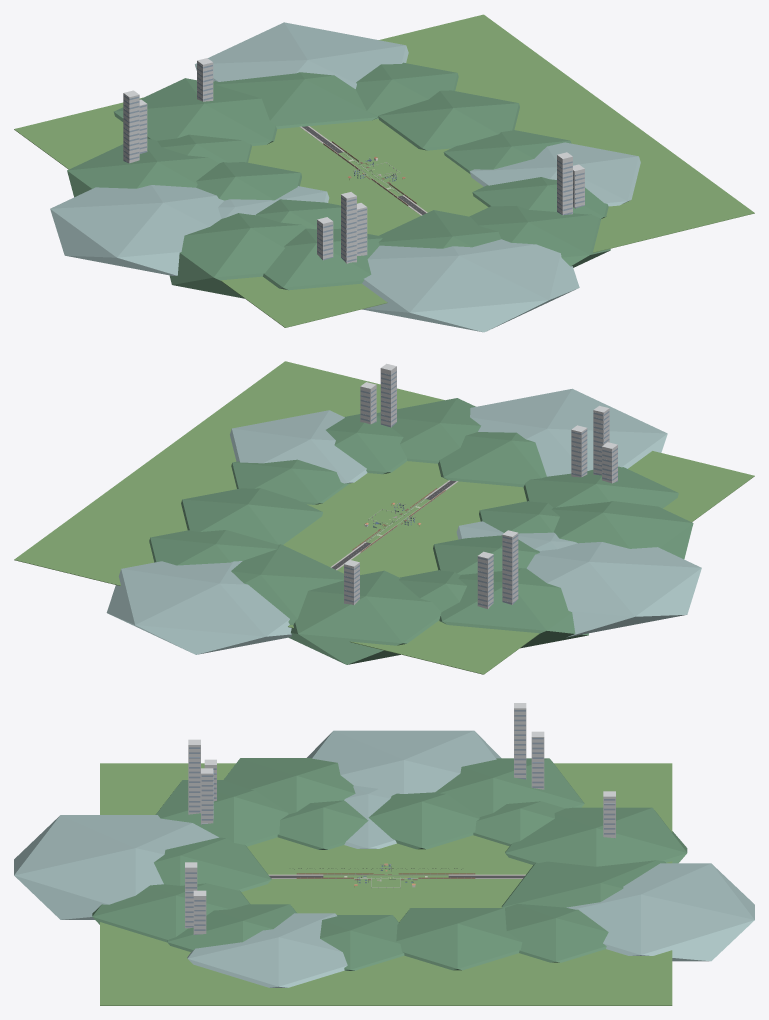
File: Exterior_Detalhes.fbx
The picture shows the model from 3 angles, top to bottom: view 1: azimuth 30°, elevation 25°; view 2: azimuth 150°, elevation 25°; view 3: azimuth 270°, elevation 25°; orthographic projection. The views are drawn at different scales.
Parts seen in each view (by area): view 1: SM_Fundo_Relevo; view 2: SM_Fundo_Relevo; view 3: SM_Fundo_Relevo, SM_Rua_Extensao, SM_Lotes_Extras_Muros.
Boxes of the visible parts, x1,y1,x2,y2 form: SM_Fundo_Relevo: [14, 14, 754, 332]; SM_Fundo_Relevo: [14, 361, 754, 674]; SM_Fundo_Relevo: [14, 703, 754, 1005]; SM_Rua_Extensao: [268, 874, 525, 878]; SM_Lotes_Extras_Muros: [296, 873, 475, 878].
Bounding box in the file's own units: 744 × 146 × 829.
